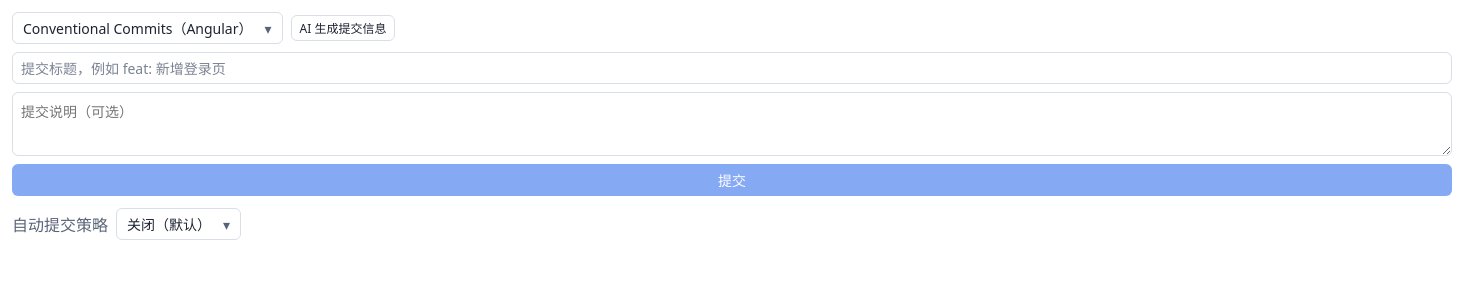
CommitBox（T6-02 提交） › 「AI 生成提交信息」填充标题与说明，并携带当前规范
This screenshot has width=1464, height=289.
Click the button with test id "ai-generate" at (343, 28), box x1=290 y1=15 x2=395 y2=41
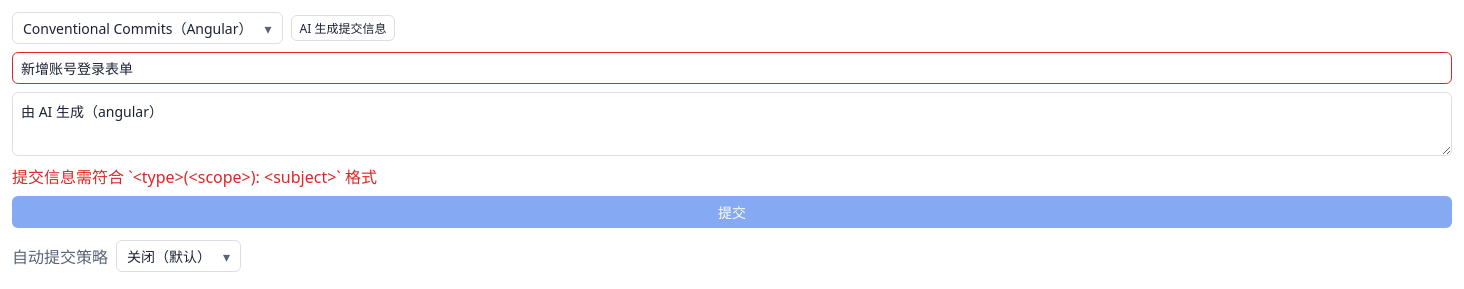
Now the field with test id "commit-subject" holds "新增账号登录表单", box x1=21 y1=53 x2=1443 y2=83
